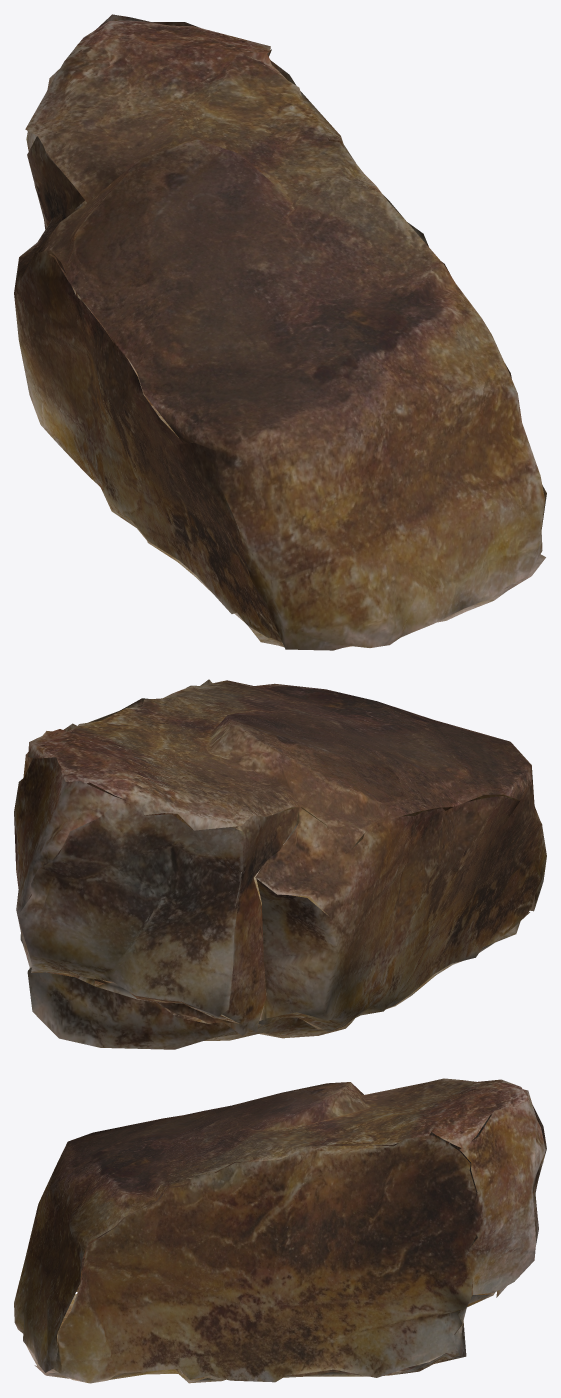
The model's file is rock_6.glb.
The picture shows the model from 3 angles, top to bottom: view 1: azimuth 30°, elevation 25°; view 2: azimuth 150°, elevation 25°; view 3: azimuth 270°, elevation 25°; orthographic projection. The views are drawn at different scales.
Visible parts, largest first — view 1: Rock6; view 2: Rock6; view 3: Rock6.
Part boxes in pixels (x1,y1,x2,y2): Rock6: [14, 14, 546, 650]; Rock6: [14, 679, 546, 1049]; Rock6: [14, 1078, 546, 1383].
Bounding box in the file's own units: 0.5297 × 0.548 × 1.
1 material, 1 textured.
